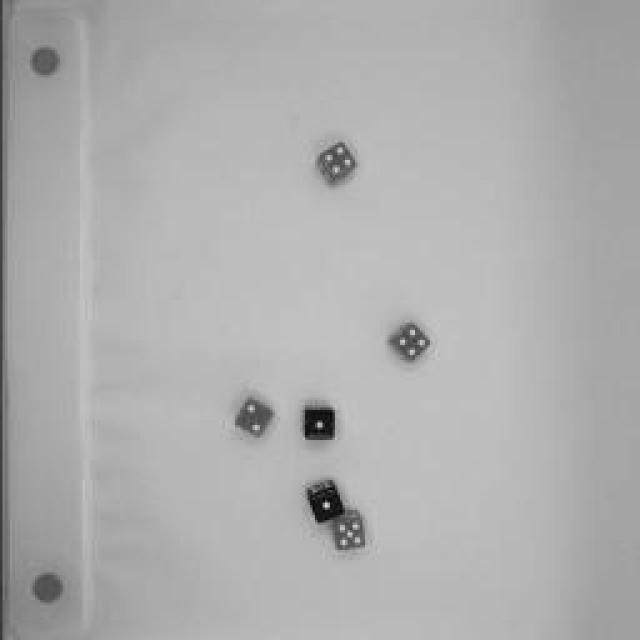dice_1: (303, 479, 345, 526), (300, 402, 338, 442)
dice_2: (231, 391, 279, 444)
dice_4: (383, 319, 435, 366), (312, 138, 360, 188)
dice_5: (329, 508, 369, 552)
